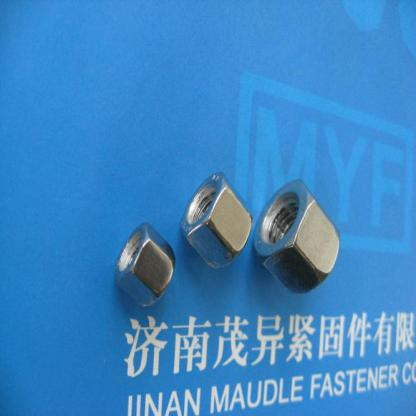FOD: (253, 176, 340, 299), (180, 169, 254, 277), (111, 220, 177, 313)
